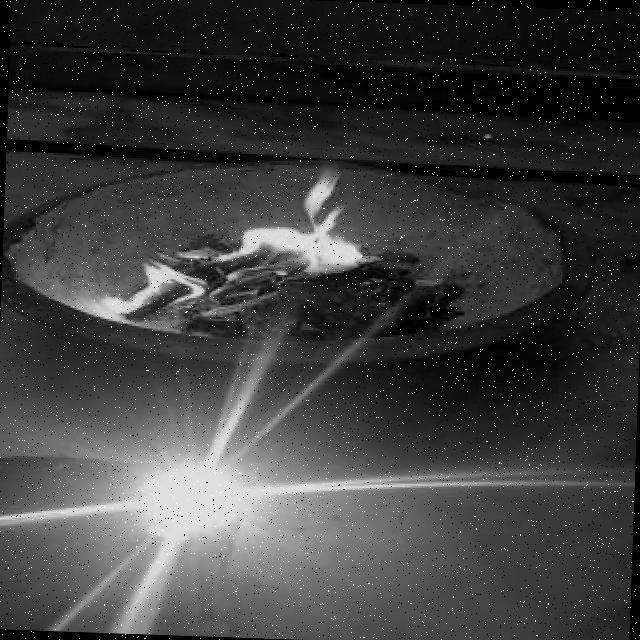fire: (102, 157, 372, 334)
